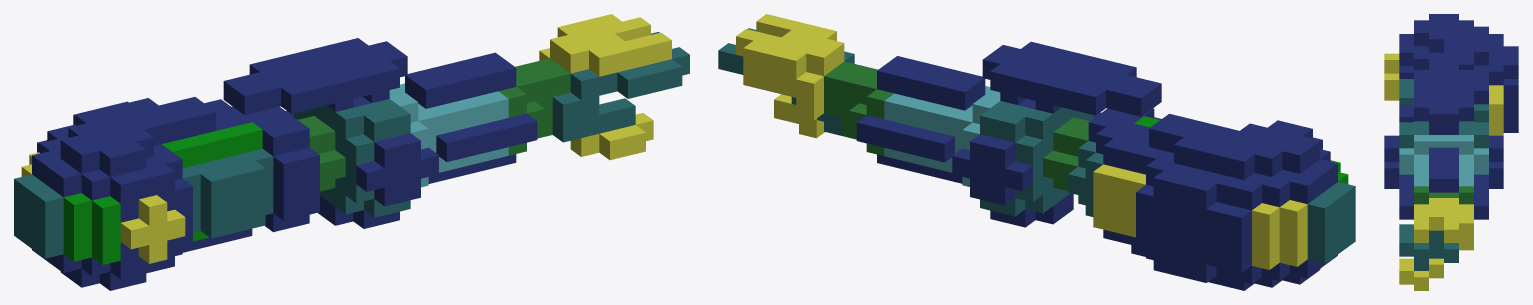
The model's file is damage_mecha-7.obj.
3 renders of one model, left to right at view 1: azimuth 30°, elevation 25°; view 2: azimuth 150°, elevation 25°; view 3: azimuth 270°, elevation 25°, orthographic. The views are drawn at different scales.
Visible parts, largest first — view 1: damage_mecha-7; view 2: damage_mecha-7; view 3: damage_mecha-7.
Boxes of the visible parts, x1,y1,x2,y2 form: damage_mecha-7: (14, 14, 689, 290); damage_mecha-7: (718, 14, 1355, 290); damage_mecha-7: (1384, 14, 1518, 290).
Bounding box in the file's own units: 35 × 8 × 9.
Materials: 1 (1 with a texture image).
